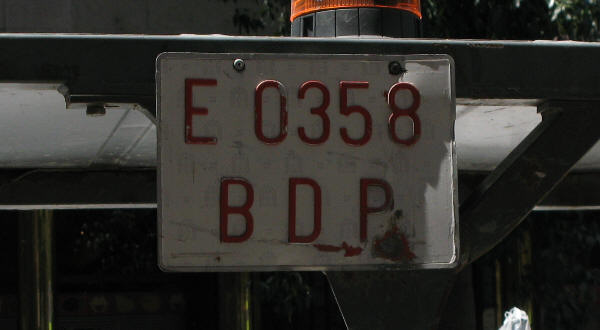license_plate: (156, 52, 458, 269)
